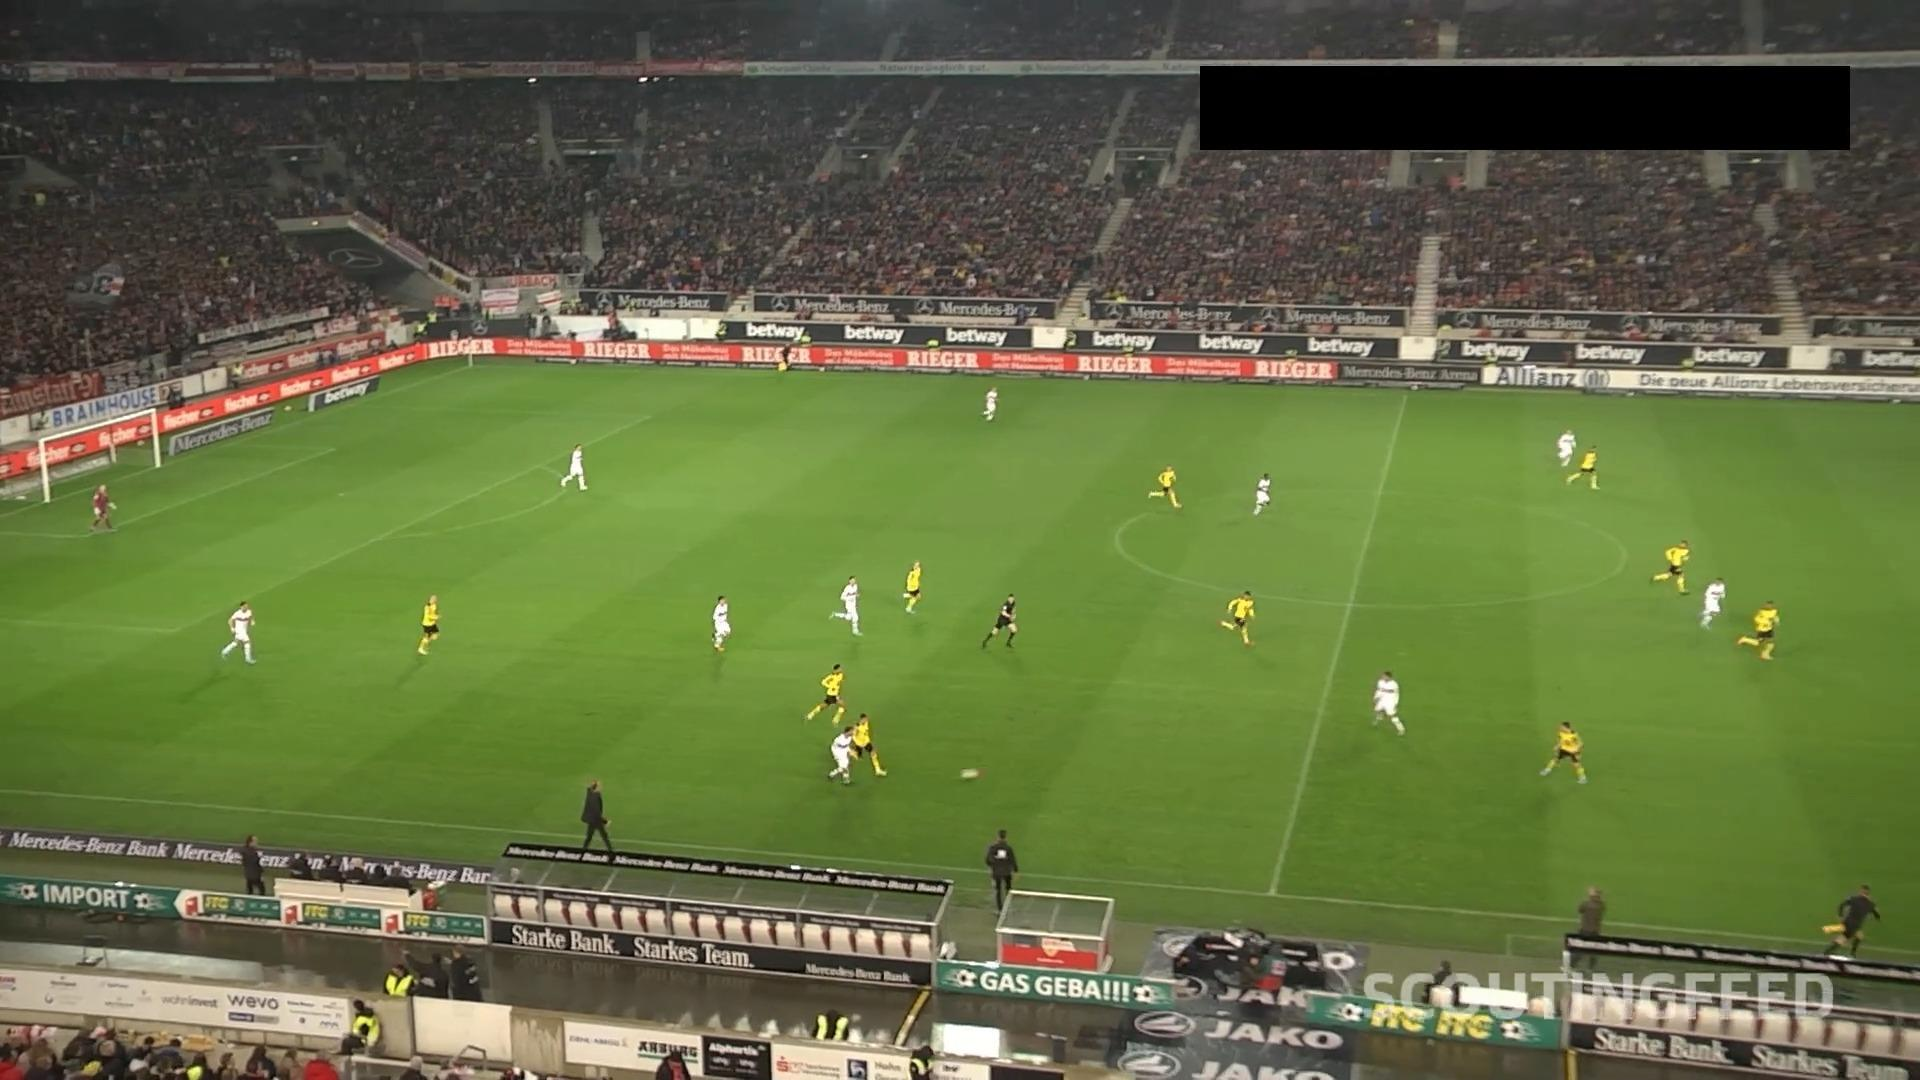ball: (959, 765, 981, 782)
